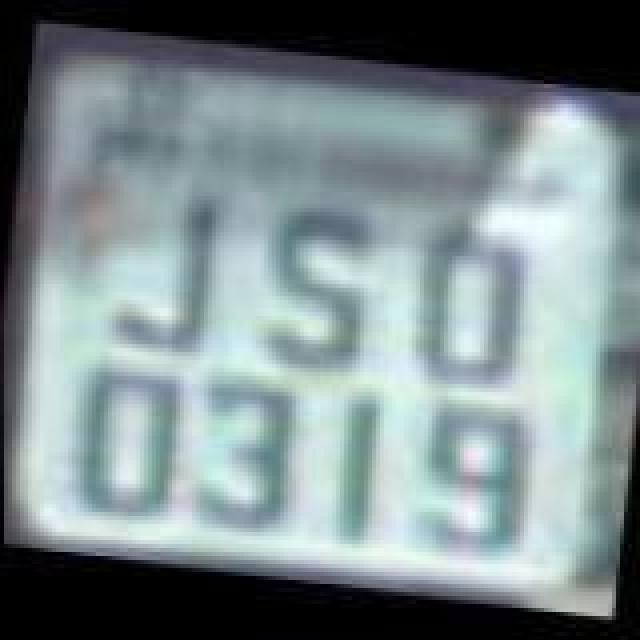1: (322, 386, 390, 542)
3: (180, 362, 308, 538)
9: (414, 388, 538, 560)
J: (106, 180, 234, 360)
O: (396, 216, 536, 396), (60, 350, 188, 522)
S: (250, 198, 378, 378)
